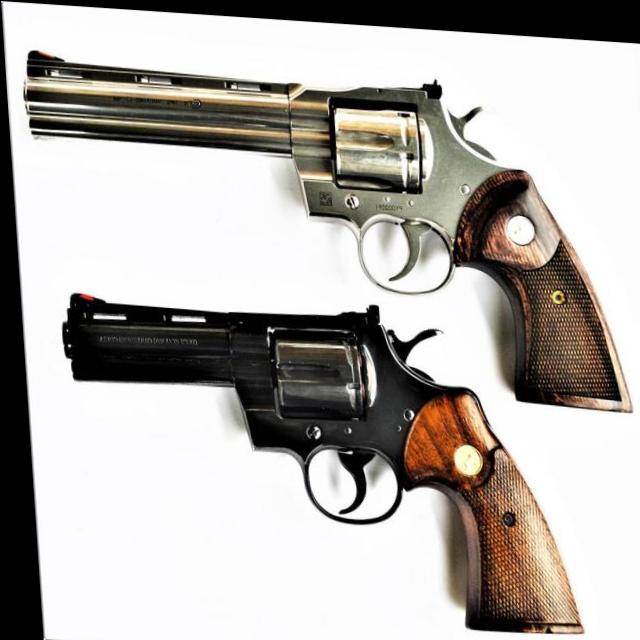handgun: (17, 44, 632, 630)
